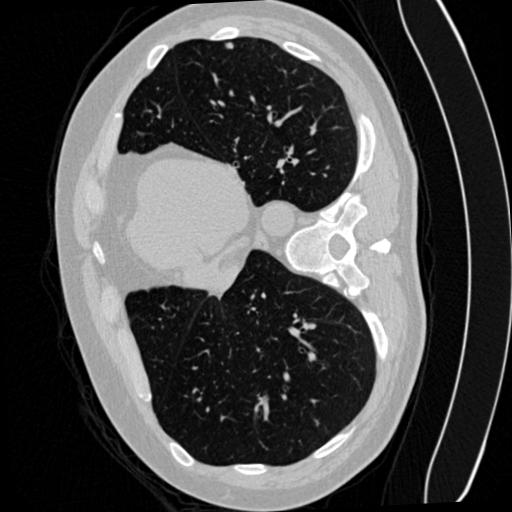nodule: (223, 40, 237, 54)
